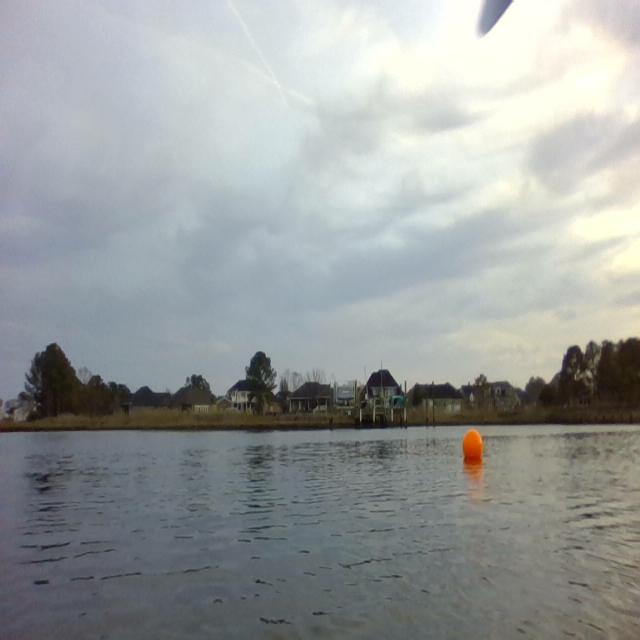Buoy: (462, 426, 484, 465)
